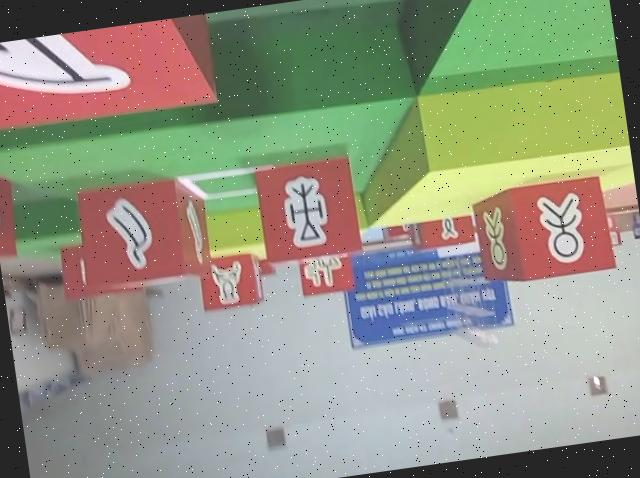R2 Real: (0, 13, 221, 140), (70, 172, 218, 299), (469, 170, 621, 292), (252, 153, 366, 268), (195, 249, 268, 316), (294, 242, 359, 302)
